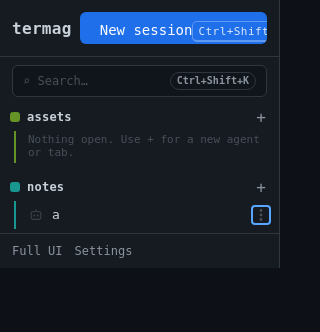
Test: tabs sidebar › opens the menu from ⋮ by keyboard, and Escape gives focus back to ⋮
Click the button named "Options for a" at [261, 215], box [251, 205, 271, 225]
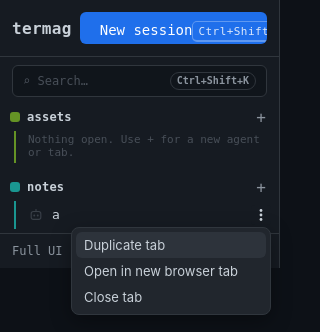
Press Escape in the menu item "Duplicate tab", box [76, 232, 266, 258]
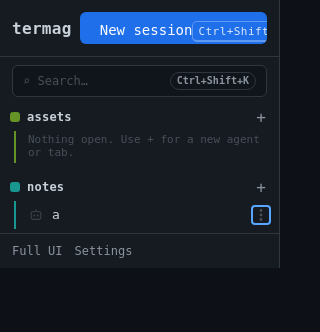
Expected: the menu with class "chat-ctx-menu" is gone
